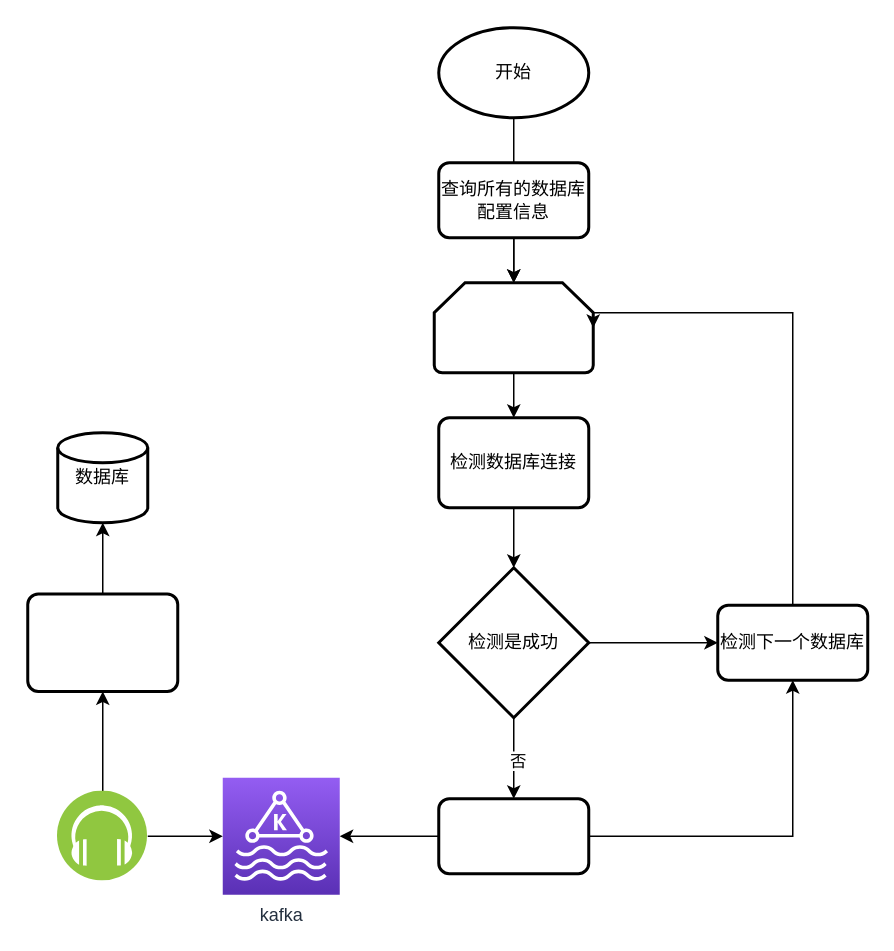
This 894x951 diagram has some shape labels left out. The shapes that lost their labels are listed below. From the top down, each one's centre as x and y in pixels, then its label:
point 513,327: 循环检测数据库连接
point 102,642: 事件消费
point 102,835: 消息监听
point 513,835: 推送告警消息
